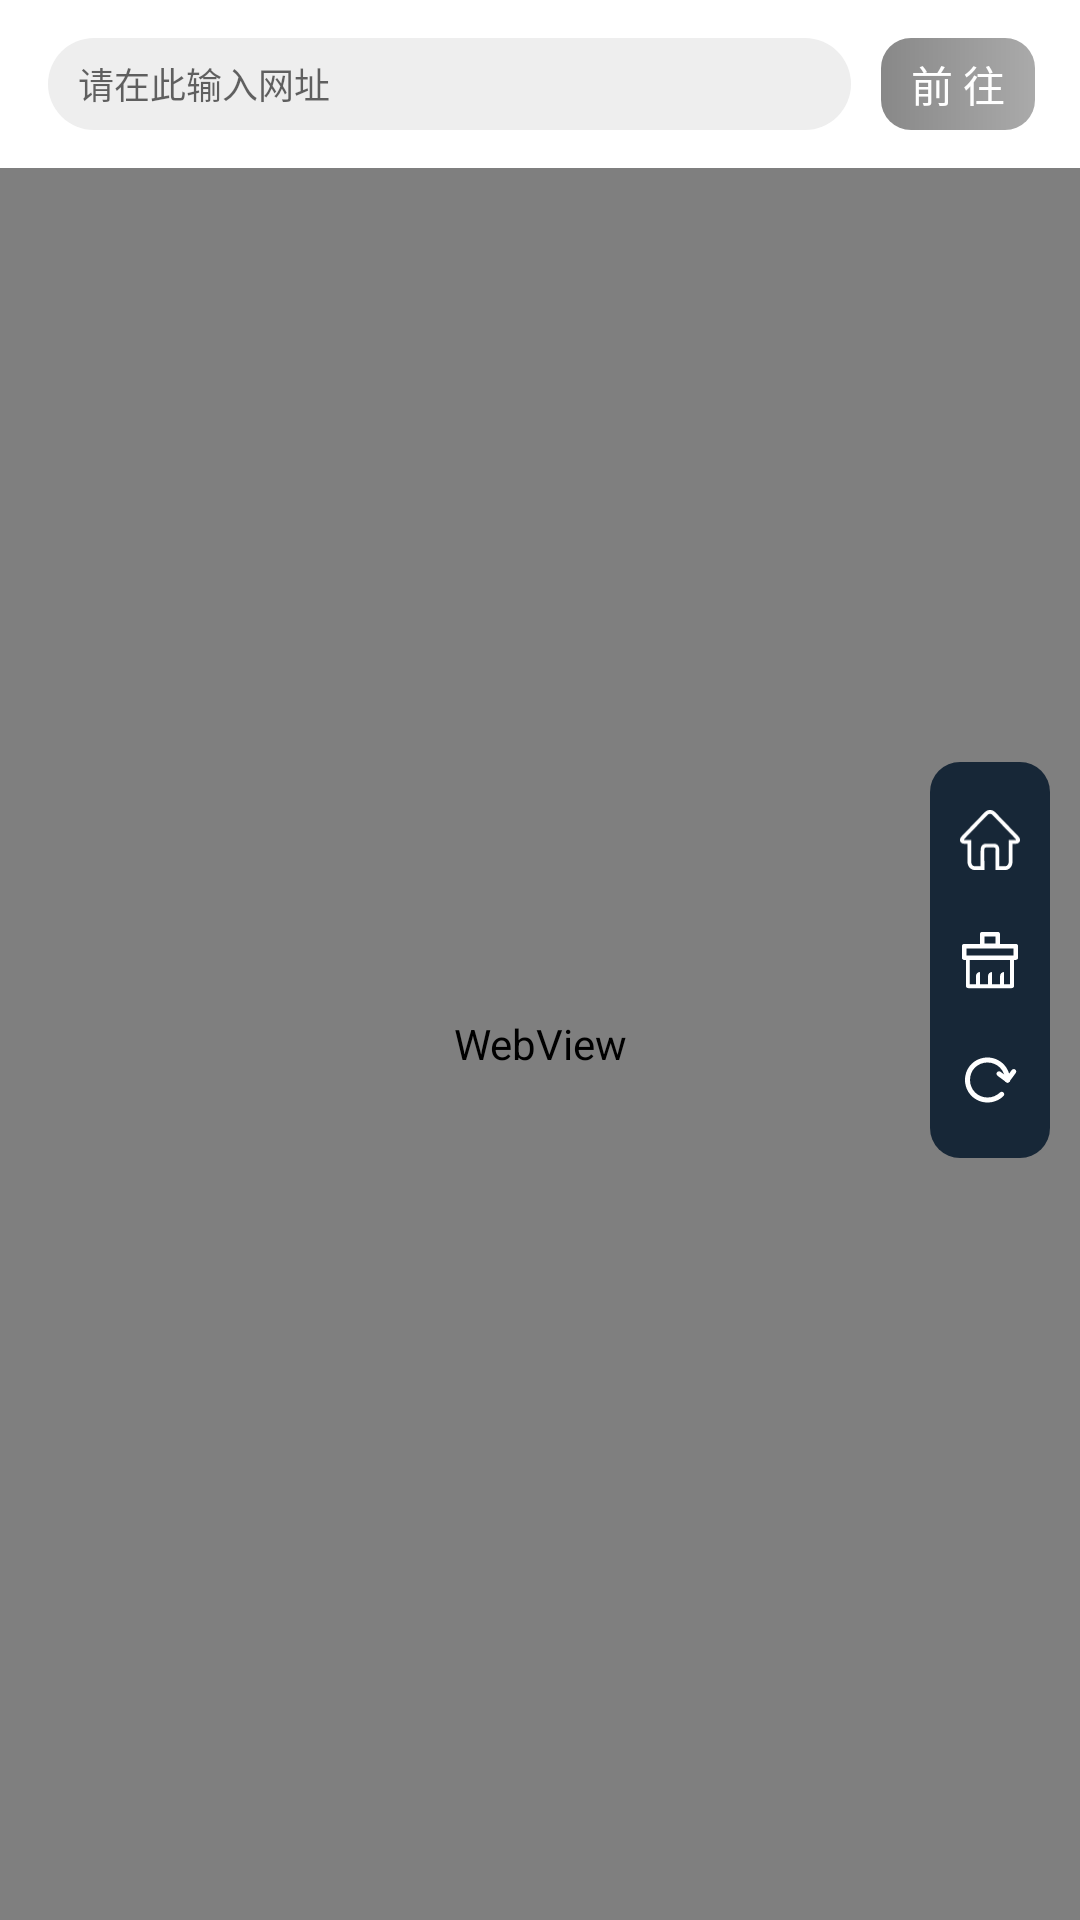

Icon click points for this 1080px×1920px phone screenshot, format [x,y]:
刷新页面: [991,1080]
回到主页: [990,840]
清理缓存: [990,960]
